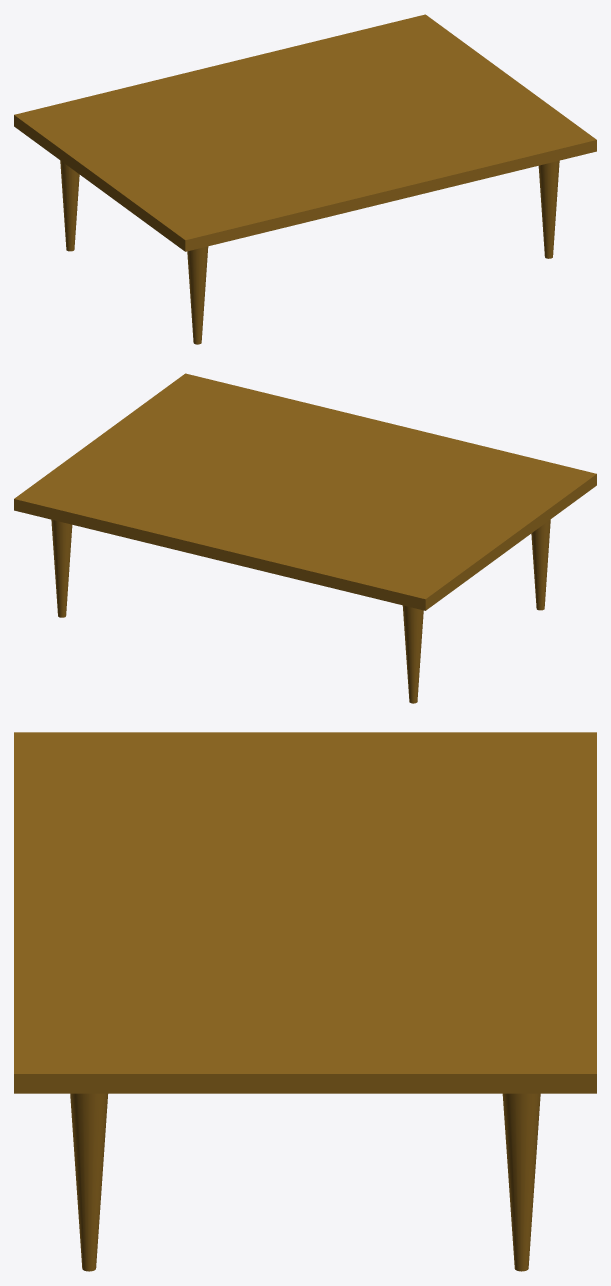
Rendered from Table.fbx.
The picture shows the model from 3 angles, top to bottom: view 1: azimuth 30°, elevation 25°; view 2: azimuth 150°, elevation 25°; view 3: azimuth 270°, elevation 25°; orthographic projection. The views are drawn at different scales.
Parts seen in each view (by area): view 1: Ring1:Ring1:Ring1:Ring1:pCylinder3; view 2: Ring1:Ring1:Ring1:Ring1:pCylinder3; view 3: Ring1:Ring1:Ring1:Ring1:pCylinder3.
Part boxes in pixels (x1,y1,x2,y2): Ring1:Ring1:Ring1:Ring1:pCylinder3: [14, 14, 596, 344]; Ring1:Ring1:Ring1:Ring1:pCylinder3: [14, 373, 596, 703]; Ring1:Ring1:Ring1:Ring1:pCylinder3: [14, 732, 596, 1271].
Bounding box in the file's own units: 2.95 × 0.8701 × 2.13.
